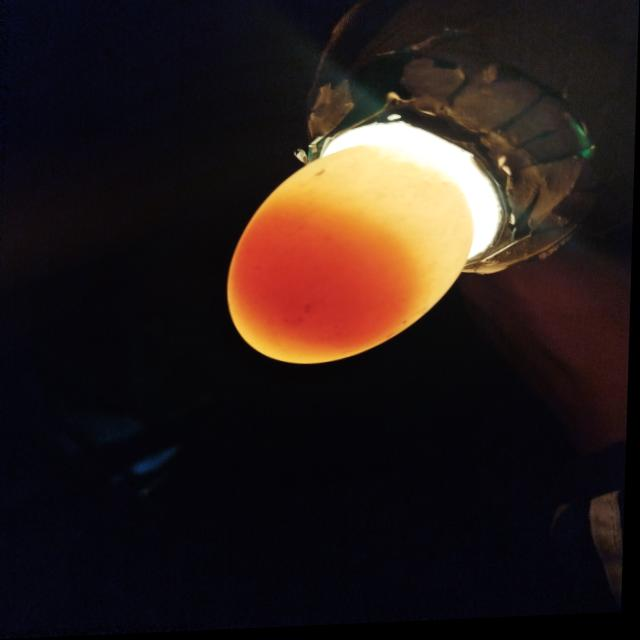Gema Quebrada: (231, 204, 416, 353)
